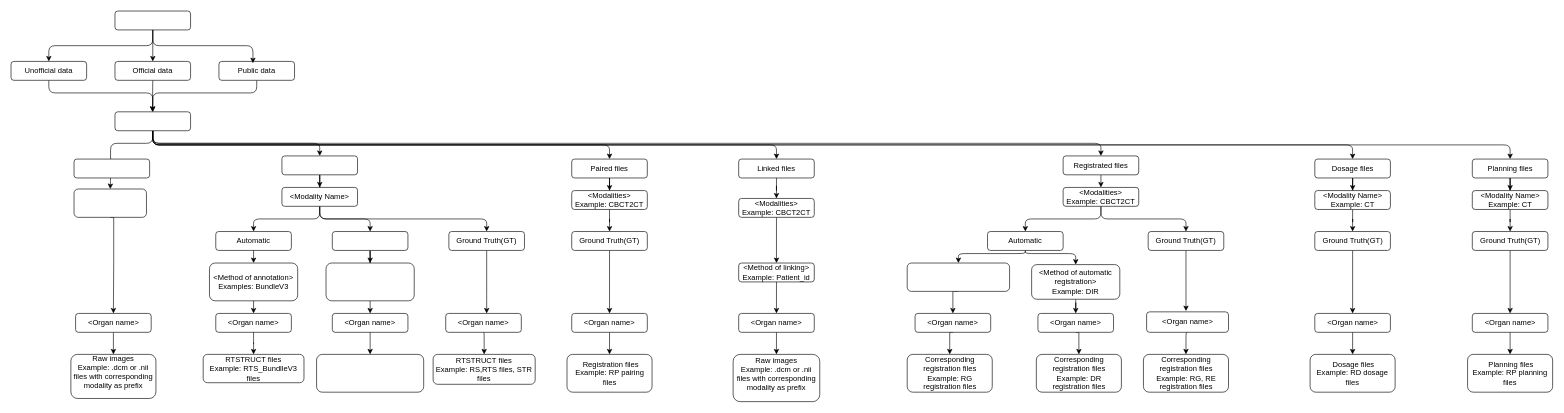
Some shapes in this 1564 by 413 pixel diagram are drawn without their labels. The shapes that lost their labels are listed below. From the top down, each one's centre as x and y in pixels, then its label:
At point (152, 20): "DATA".
At point (152, 121): "<Source> Example: Motol".
At point (111, 168): "Raw medical images".
At point (319, 165): "Annotation files".
At point (109, 202): "<Modality Name> Example: MRI, CT, CBCT".
At point (370, 240): "Automatic&Manual".
At point (369, 281): "<Method of annotation> Examples: BundleV3&Preliminary correction".
At point (958, 276): "<Method of automatic registration> Example: Rigid Registration".
At point (370, 373): "RTSTRUCT files Example: RTS_Preliminary_correction files".
